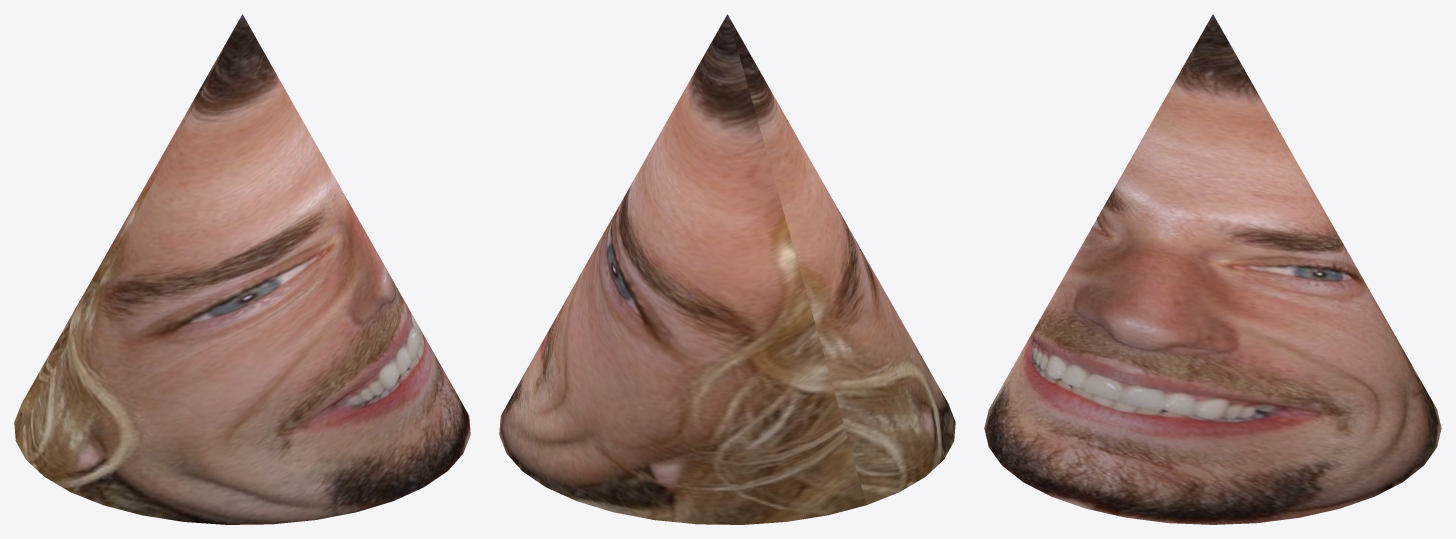
File: kroeger-cone.glb
3 renders of one model, left to right at view 1: azimuth 30°, elevation 25°; view 2: azimuth 150°, elevation 25°; view 3: azimuth 270°, elevation 25°, orthographic.
Visible parts, largest first — view 1: KroegerCone; view 2: KroegerCone; view 3: KroegerCone.
Boxes of the visible parts, x1,y1,x2,y2 form: KroegerCone: (14,14,470,524); KroegerCone: (499,14,955,524); KroegerCone: (984,14,1441,524).
Size of the model in its own units: 2 by 2 by 2.
Materials: 1 (1 with a texture image).
